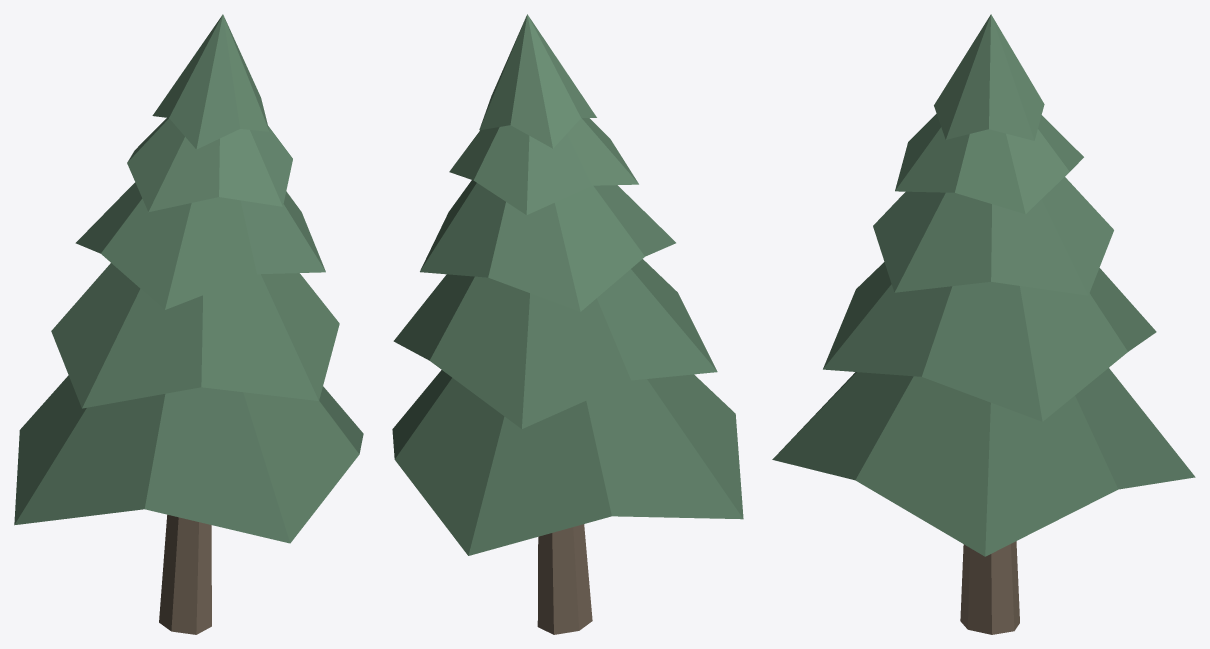
Rendered from pine_4.glb.
The picture shows the model from 3 angles, left to right: view 1: azimuth 30°, elevation 25°; view 2: azimuth 150°, elevation 25°; view 3: azimuth 270°, elevation 25°; orthographic projection. The views are drawn at different scales.
Visible parts, largest first — view 1: pine_4.001; view 2: pine_4.001; view 3: pine_4.001.
Boxes of the visible parts, x1,y1,x2,y2 form: pine_4.001: [14, 14, 363, 634]; pine_4.001: [392, 14, 743, 634]; pine_4.001: [772, 14, 1195, 634].
Bounding box in the file's own units: 11 × 18.05 × 11.01.
